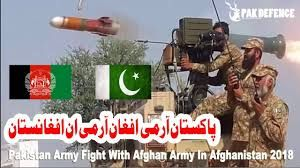uniform: (247, 64, 285, 164), (209, 30, 239, 119), (235, 42, 261, 140)
